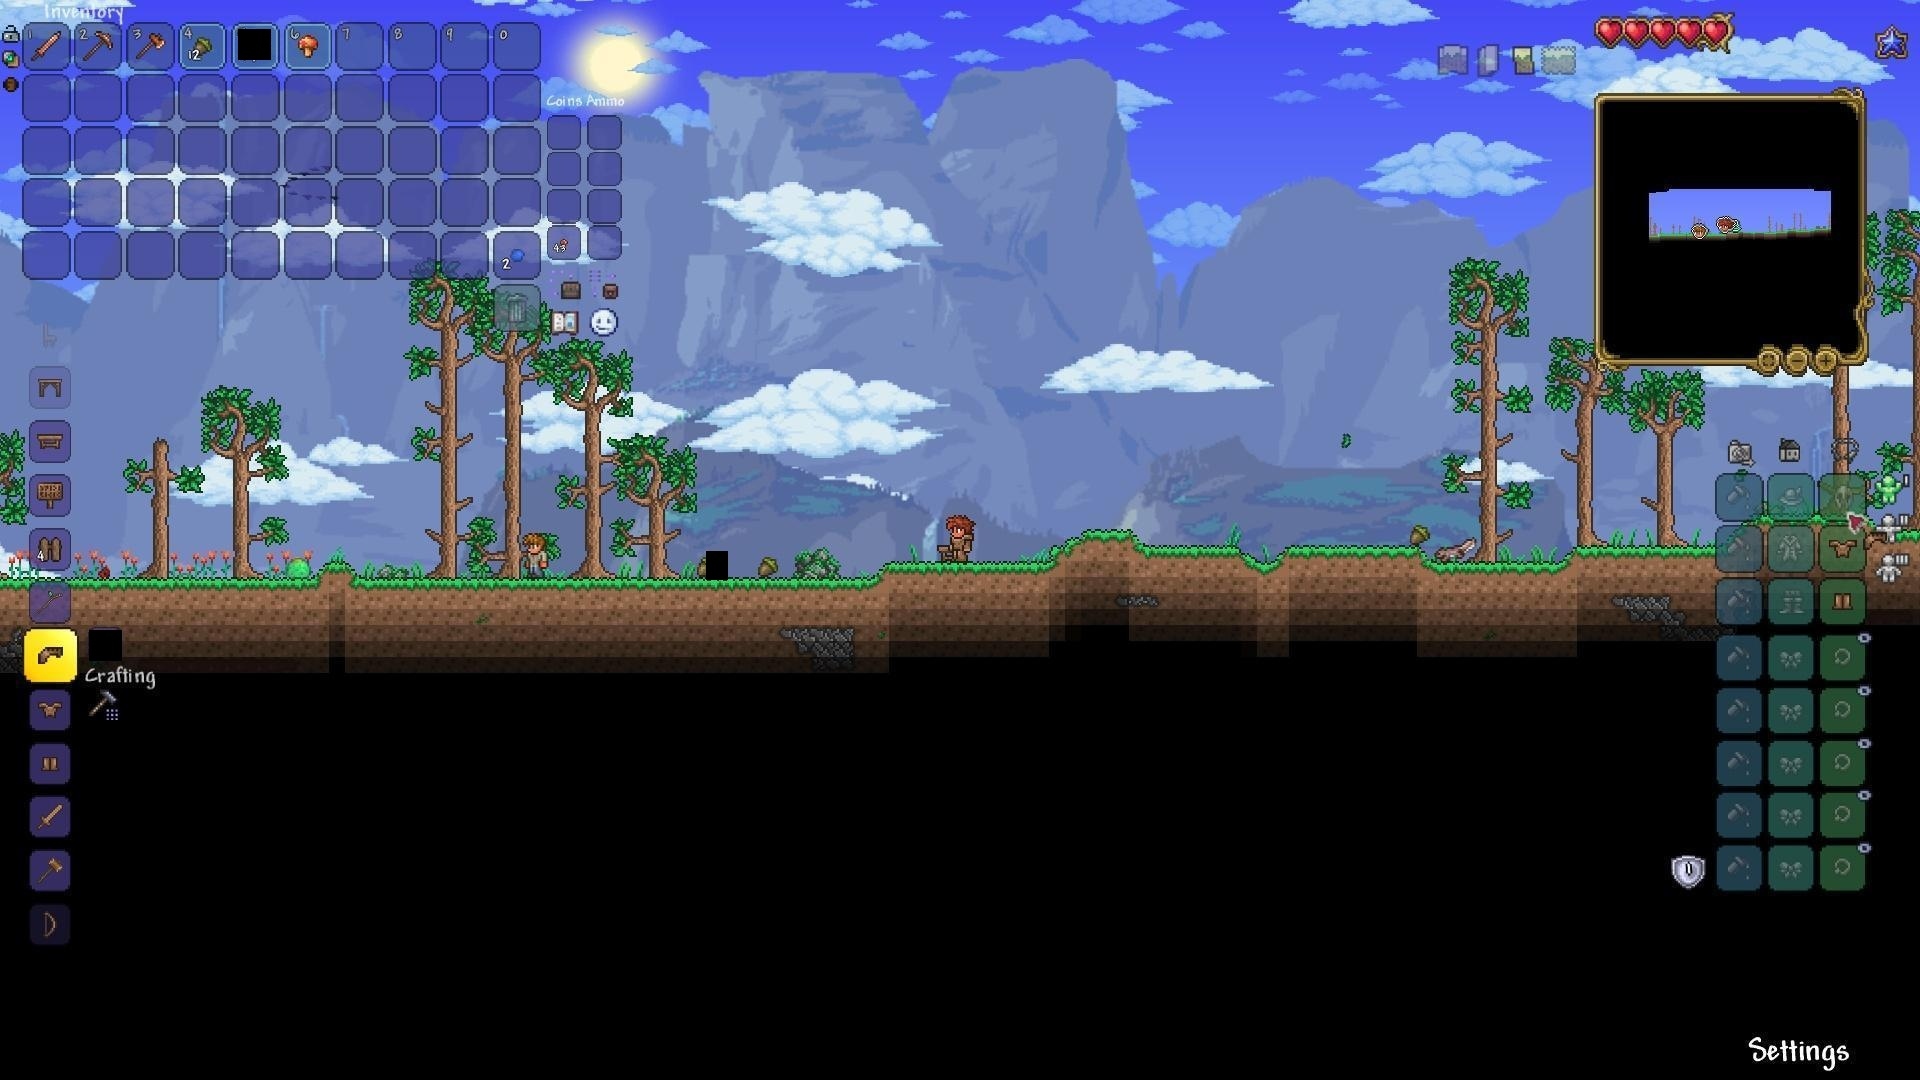breastplate: (34, 699, 65, 720), (1830, 539, 1858, 560)
helmet: (1859, 525, 1890, 553), (36, 640, 66, 667)
legs: (36, 752, 63, 781), (1832, 589, 1855, 615)
slime: (285, 556, 313, 579)
workbench: (37, 430, 66, 452)
